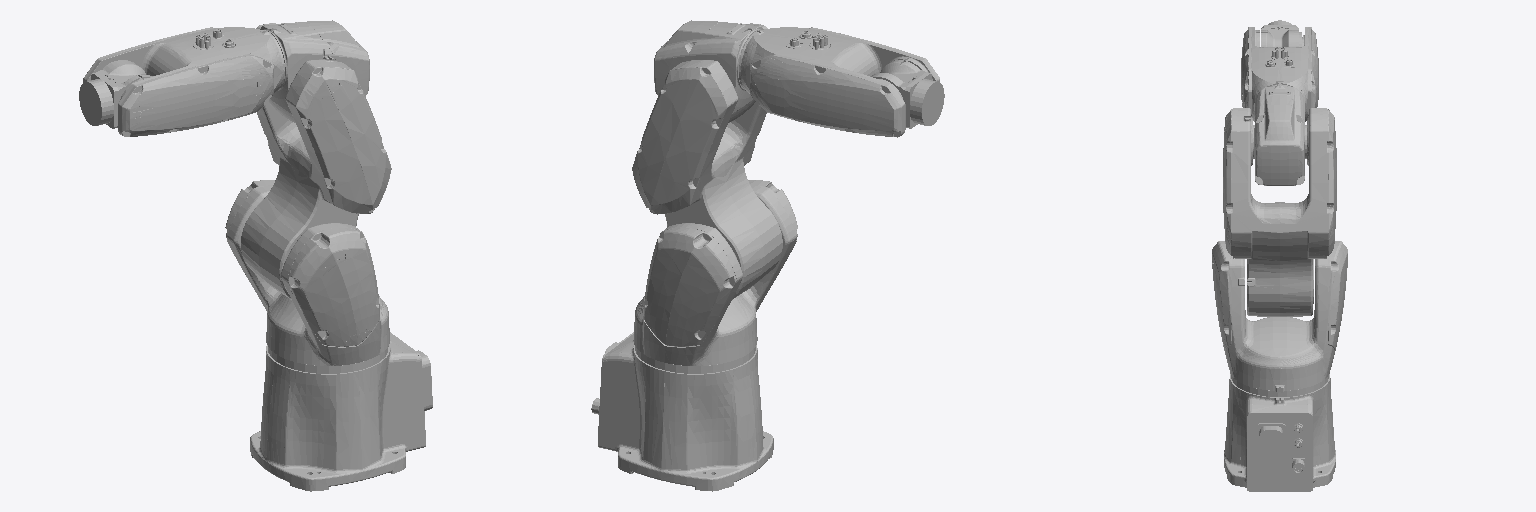
robot.urdf — huichuan_arm:
<robot
  name="huichuan_arm">
  <link
    name="link_0">
    <inertial>
      <origin
        xyz="0.016159 0.099039 -0.062276"
        rpy="0 0 0" />
      <mass
        value="6.9262" />
      <inertia
        ixx="0.037951"
        ixy="0.00057219"
        ixz="-0.00020371"
        iyy="0.041753"
        iyz="-1.1994E-05"
        izz="0.048928" />
    </inertial>
    <visual>
      <origin
        xyz="0 0 0"
        rpy="0 0 0" />
      <geometry>
        <mesh
          filename="package://huichuan_arm/meshes/link_0.STL" />
      </geometry>
      <material
        name="">
        <color
          rgba="0.75294 0.75294 0.75294 1" />
      </material>
    </visual>
    <collision>
      <origin
        xyz="0 0 0"
        rpy="0 0 0" />
      <geometry>
        <mesh
          filename="package://huichuan_arm/meshes/link_0.STL" />
      </geometry>
    </collision>
  </link>
  <link
    name="link_1">
    <inertial>
      <origin
        xyz="-0.023596 6.0229E-05 -0.10188"
        rpy="0 0 0" />
      <mass
        value="3.9856" />
      <inertia
        ixx="0.039678"
        ixy="2.2975E-06"
        ixz="-0.0051384"
        iyy="0.024861"
        iyz="1.8016E-05"
        izz="0.031304" />
    </inertial>
    <visual>
      <origin
        xyz="0 0 0"
        rpy="0 0 0" />
      <geometry>
        <mesh
          filename="package://huichuan_arm/meshes/link_1.STL" />
      </geometry>
      <material
        name="">
        <color
          rgba="0.75294 0.75294 0.75294 1" />
      </material>
    </visual>
    <collision>
      <origin
        xyz="0 0 0"
        rpy="0 0 0" />
      <geometry>
        <mesh
          filename="package://huichuan_arm/meshes/link_1.STL" />
      </geometry>
    </collision>
  </link>
  <joint
    name="joint_1"
    type="revolute">
    <origin
      xyz="0 0.0625 0.19715"
      rpy="3.1416 0 0" />
    <parent
      link="link_0" />
    <child
      link="link_1" />
    <axis
      xyz="0 0 -1" />
    <limit
      lower="-1.484"
      upper="1.484"
      effort="0"
      velocity="3.84" />
  </joint>
  <link
    name="link_2">
    <inertial>
      <origin
        xyz="0.00537578800812372 -0.0269729949500887 -0.000102450997665662"
        rpy="0 0 0" />
      <mass
        value="16.1900771502942" />
      <inertia
        ixx="1.12450076568746"
        ixy="-0.352995474004532"
        ixz="-0.000391024384724165"
        iyy="0.275290518486214"
        iyz="-0.000401939443959672"
        izz="1.30935621199594" />
    </inertial>
    <visual>
      <origin
        xyz="0 0 0"
        rpy="0 0 0" />
      <geometry>
        <mesh
          filename="package://huichuan_arm/meshes/link_2.STL" />
      </geometry>
      <material
        name="">
        <color
          rgba="0.752941176470588 0.752941176470588 0.752941176470588 1" />
      </material>
    </visual>
    <collision>
      <origin
        xyz="0 0 0"
        rpy="0 0 0" />
      <geometry>
        <mesh
          filename="package://huichuan_arm/meshes/link_2.STL" />
      </geometry>
    </collision>
  </link>
  <joint
    name="joint_2"
    type="revolute">
    <origin
      xyz="-0.05 0 -0.16885"
      rpy="-1.5708 -6.9389E-16 3.1416" />
    <parent
      link="link_1" />
    <child
      link="link_2" />
    <axis
      xyz="0 0 1" />
    <limit
      lower="-1.265"
      upper="0.681"
      effort="0"
      velocity="0" />
  </joint>
  <link
    name="link_3">
    <inertial>
      <origin
        xyz="5.6145E-05 -0.012484 0.020197"
        rpy="0 0 0" />
      <mass
        value="1.7907" />
      <inertia
        ixx="0.0056217"
        ixy="4.7831E-07"
        ixz="-5.3393E-06"
        iyy="0.0043333"
        iyz="-0.00053155"
        izz="0.0038153" />
    </inertial>
    <visual>
      <origin
        xyz="0 0 0"
        rpy="0 0 0" />
      <geometry>
        <mesh
          filename="package://huichuan_arm/meshes/link_3.STL" />
      </geometry>
      <material
        name="">
        <color
          rgba="0.75294 0.75294 0.75294 1" />
      </material>
    </visual>
    <collision>
      <origin
        xyz="0 0 0"
        rpy="0 0 0" />
      <geometry>
        <mesh
          filename="package://huichuan_arm/meshes/link_3.STL" />
      </geometry>
    </collision>
  </link>
  <joint
    name="joint_3"
    type="revolute">
    <origin
      xyz="0 0.285 0"
      rpy="3.1416 1.5708 0" />
    <parent
      link="link_2" />
    <child
      link="link_3" />
    <axis
      xyz="-1 0 0" />
    <limit
      lower="-0.619"
      upper="1.509"
      effort="0"
      velocity="0" />
  </joint>
  <link
    name="link_4">
    <inertial>
      <origin
        xyz="-0.00047659 -0.0014938 -0.12666"
        rpy="0 0 0" />
      <mass
        value="2.9518" />
      <inertia
        ixx="0.016526"
        ixy="1.5453E-06"
        ixz="-0.00017728"
        iyy="0.019492"
        iyz="-3.5231E-05"
        izz="0.007518" />
    </inertial>
    <visual>
      <origin
        xyz="0 0 0"
        rpy="0 0 0" />
      <geometry>
        <mesh
          filename="package://huichuan_arm/meshes/link_4.STL" />
      </geometry>
      <material
        name="">
        <color
          rgba="0.75294 0.75294 0.75294 1" />
      </material>
    </visual>
    <collision>
      <origin
        xyz="0 0 0"
        rpy="0 0 0" />
      <geometry>
        <mesh
          filename="package://huichuan_arm/meshes/link_4.STL" />
      </geometry>
    </collision>
  </link>
  <joint
    name="joint_4"
    type="revolute">
    <origin
      xyz="0 -0.045 -0.048453"
      rpy="0 0 3.1416" />
    <parent
      link="link_3" />
    <child
      link="link_4" />
    <axis
      xyz="0 0 -1" />
    <limit
      lower="-1.745"
      upper="1.745"
      effort="0"
      velocity="0" />
  </joint>
  <link
    name="link_5">
    <inertial>
      <origin
        xyz="0.014994 1.4899E-05 -0.0031563"
        rpy="0 0 0" />
      <mass
        value="0.51914" />
      <inertia
        ixx="0.0004606"
        ixy="5.2041E-08"
        ixz="-2.8077E-05"
        iyy="0.00068301"
        iyz="-1.9337E-07"
        izz="0.00063417" />
    </inertial>
    <visual>
      <origin
        xyz="0 0 0"
        rpy="0 0 0" />
      <geometry>
        <mesh
          filename="package://huichuan_arm/meshes/link_5.STL" />
      </geometry>
      <material
        name="">
        <color
          rgba="0.75294 0.75294 0.75294 1" />
      </material>
    </visual>
    <collision>
      <origin
        xyz="0 0 0"
        rpy="0 0 0" />
      <geometry>
        <mesh
          filename="package://huichuan_arm/meshes/link_5.STL" />
      </geometry>
    </collision>
  </link>
  <joint
    name="joint_5"
    type="revolute">
    <origin
      xyz="0 0 -0.25155"
      rpy="3.1416 1.5708 0" />
    <parent
      link="link_4" />
    <child
      link="link_5" />
    <axis
      xyz="0 0 -1" />
    <limit
      lower="-1.047"
      upper="1.047"
      effort="0"
      velocity="0" />
  </joint>
  <link
    name="link_6">
    <inertial>
      <origin
        xyz="0.004378 0.00012061 4.3021E-16"
        rpy="0 0 0" />
      <mass
        value="0.016668" />
      <inertia
        ixx="5.3036E-06"
        ixy="-5.7536E-09"
        ixz="2.0278E-20"
        iyy="2.796E-06"
        iyz="3.6184E-20"
        izz="2.7641E-06" />
    </inertial>
    <visual>
      <origin
        xyz="0 0 0"
        rpy="0 0 0" />
      <geometry>
        <mesh
          filename="package://huichuan_arm/meshes/link_6.STL" />
      </geometry>
      <material
        name="">
        <color
          rgba="0.75294 0.75294 0.75294 1" />
      </material>
    </visual>
    <collision>
      <origin
        xyz="0 0 0"
        rpy="0 0 0" />
      <geometry>
        <mesh
          filename="package://huichuan_arm/meshes/link_6.STL" />
      </geometry>
    </collision>
  </link>
  <joint
    name="joint_6"
    type="continuous">
    <origin
      xyz="0.0695 0 0"
      rpy="-0.017978 0 0" />
    <parent
      link="link_5" />
    <child
      link="link_6" />
    <axis
      xyz="1 0 0" />
    <limit
      lower="-3.14"
      upper="3.14"
      effort="0"
      velocity="0" />
  </joint>
</robot>

--- Render facts (derived) ---
3 views of the same robot in one strip: view 1: azimuth 30°, elevation 25°; view 2: azimuth 150°, elevation 25°; view 3: azimuth 270°, elevation 25° (orthographic).
Robot: huichuan_arm — 7 links, 6 joints (5 revolute, 1 continuous); root link link_0; default pose: every joint at zero.
Links seen in each view (by area): view 1: link_0, link_2, link_1, link_4, link_3, link_5; view 2: link_0, link_2, link_1, link_4, link_3, link_5; view 3: link_2, link_1, link_0, link_3, link_4, link_5.
Boxes of the visible links, box(x1,y1,x2,y2) form: link_0: box(250, 332, 432, 491); link_2: box(241, 23, 391, 299); link_1: box(225, 180, 389, 365); link_4: box(83, 27, 284, 136); link_3: box(260, 20, 369, 122); link_5: box(79, 60, 152, 128); link_0: box(591, 332, 773, 491); link_2: box(632, 23, 782, 299); link_1: box(633, 180, 797, 365); link_4: box(739, 27, 939, 137); link_3: box(654, 20, 763, 122); link_5: box(871, 60, 944, 128); link_2: box(1223, 108, 1336, 316); link_1: box(1212, 241, 1347, 392); link_0: box(1224, 374, 1335, 491); link_3: box(1253, 85, 1306, 185); link_4: box(1241, 27, 1318, 121); link_5: box(1261, 20, 1302, 46).
Bounding box of the posed robot: 0.5826 × 0.2578 × 0.7636 m (x, y, z).
6 mesh visuals loaded from 7 distinct referenced files (6 binary STL); not drawn: 1 (reference not matched to a file when rendering).
